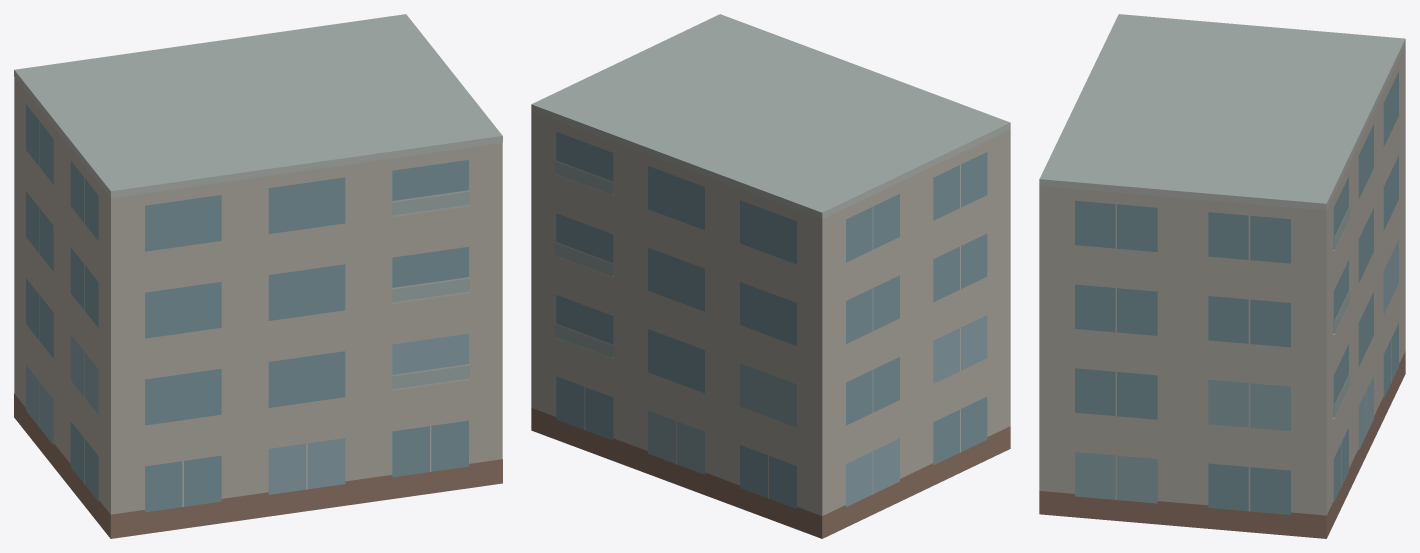
The model's file is residential-1eec8426-cba4-4bad-b66d-a4cb0e1f8a2f.glb.
The picture shows the model from 3 angles, left to right: view 1: azimuth 30°, elevation 25°; view 2: azimuth 150°, elevation 25°; view 3: azimuth 270°, elevation 25°; orthographic projection. The views are drawn at different scales.
Visible parts, largest first — view 1: residential-1eec8426-cba4-4bad-b66d-a4cb0e1f8a2f.tmp; view 2: residential-1eec8426-cba4-4bad-b66d-a4cb0e1f8a2f.tmp; view 3: residential-1eec8426-cba4-4bad-b66d-a4cb0e1f8a2f.tmp.
Boxes of the visible parts, box(x1,y1,x2,y2) form: residential-1eec8426-cba4-4bad-b66d-a4cb0e1f8a2f.tmp: box(14, 14, 502, 538); residential-1eec8426-cba4-4bad-b66d-a4cb0e1f8a2f.tmp: box(531, 14, 1010, 538); residential-1eec8426-cba4-4bad-b66d-a4cb0e1f8a2f.tmp: box(1039, 14, 1405, 538).
Bounding box in the file's own units: 14.82 × 12.2 × 12.09.
